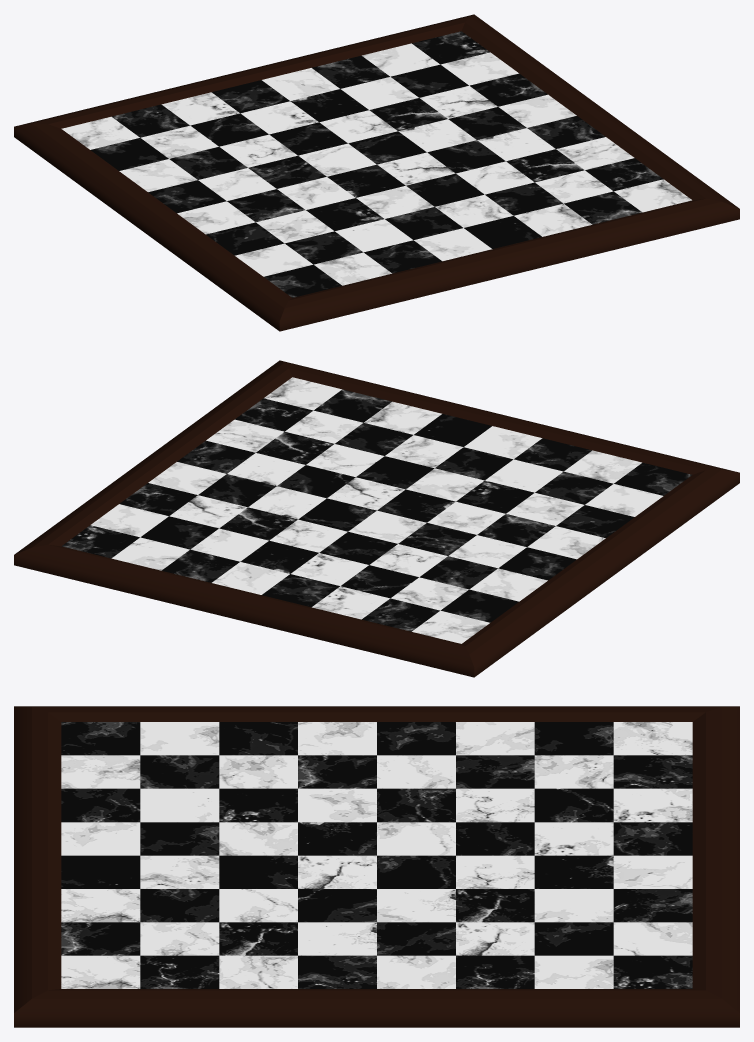
File: checker_chess_board.glb
3 views of the same model, one above another, from view 1: azimuth 30°, elevation 25°; view 2: azimuth 150°, elevation 25°; view 3: azimuth 270°, elevation 25° (orthographic). The views are drawn at different scales.
Parts seen in each view (by area): view 1: tilesDark, tilesLight, boardEdge; view 2: tilesLight, tilesDark, boardEdge; view 3: tilesDark, tilesLight, boardEdge.
Part boxes in pixels (x1=…): tilesDark: x1=90, y1=31, x2=663, y2=297; tilesLight: x1=61, y1=43, x2=691, y2=285; boardEdge: x1=14, y1=14, x2=739, y2=331; tilesLight: x1=90, y1=377, x2=663, y2=643; tilesDark: x1=62, y1=389, x2=692, y2=631; boardEdge: x1=14, y1=360, x2=739, y2=677; tilesDark: x1=61, y1=722, x2=692, y2=988; tilesLight: x1=61, y1=722, x2=692, y2=988; boardEdge: x1=14, y1=706, x2=739, y2=1027.
Bounding box in the file's own units: 2.3 × 0.08 × 2.3.
3 materials, 2 textured.
